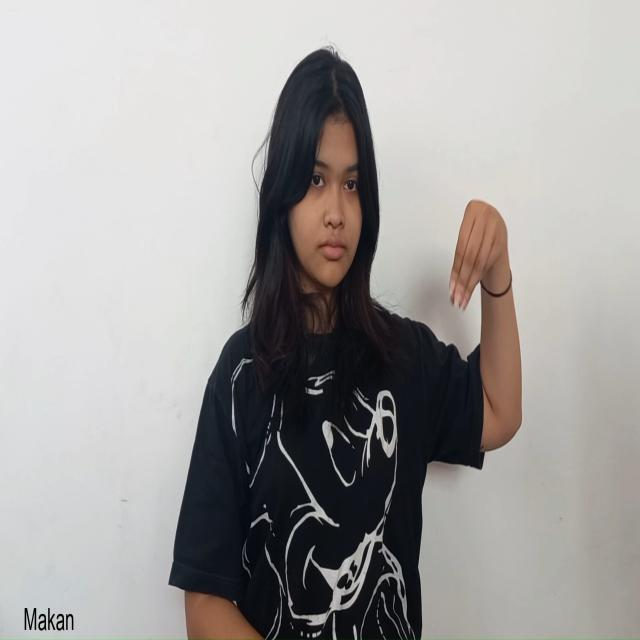Makan -BISINDO-: (448, 198, 522, 346)
